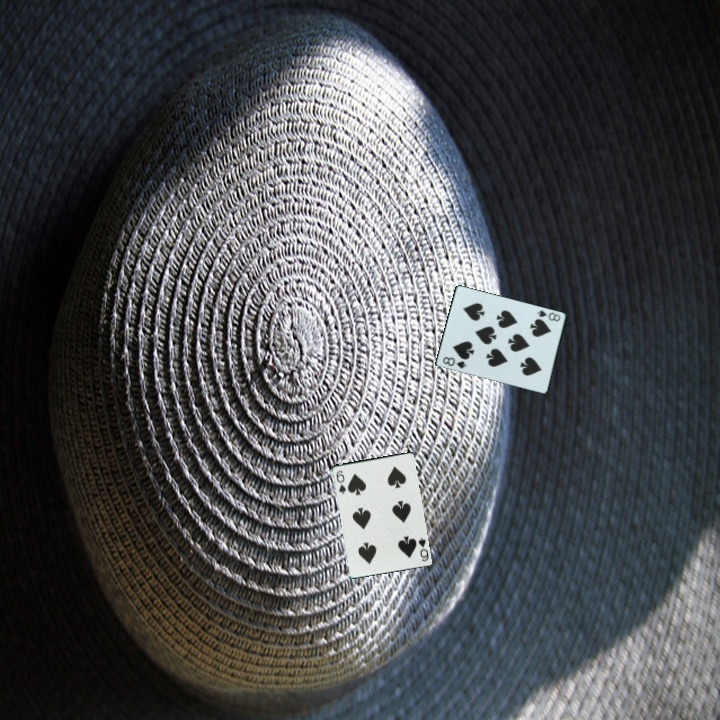6s: (332, 467, 349, 496), (415, 534, 431, 564)
8s: (534, 306, 563, 324), (440, 353, 469, 371)
